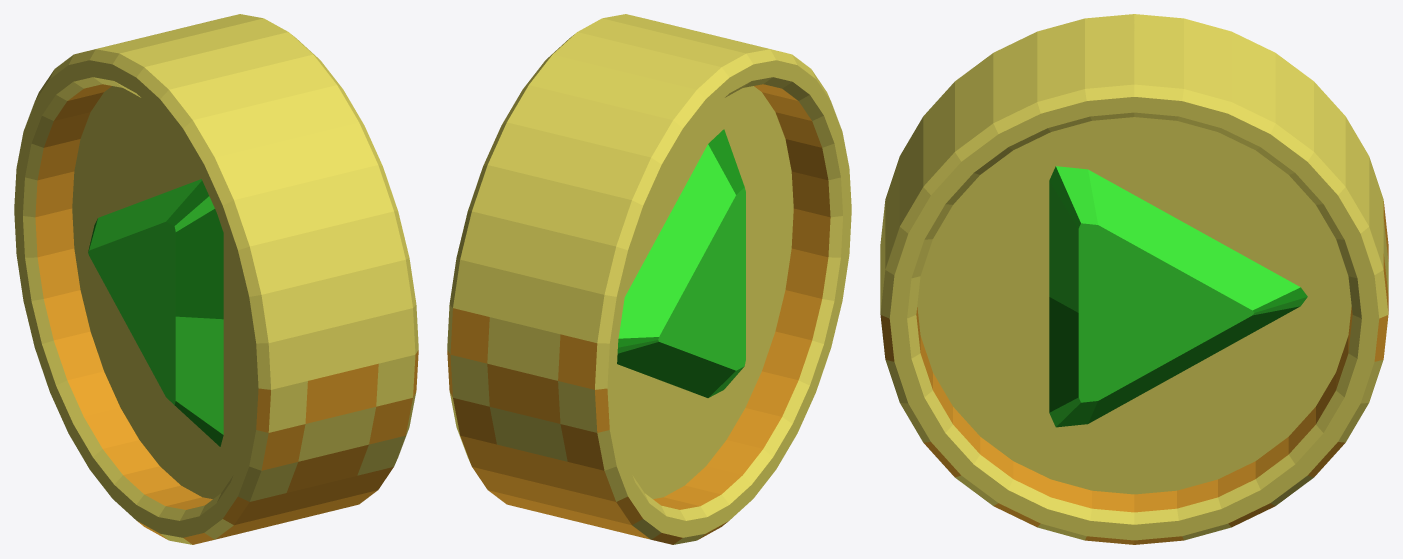
Rendered from nextButton.fbx.
3 views of the same model, side by side, from view 1: azimuth 30°, elevation 25°; view 2: azimuth 150°, elevation 25°; view 3: azimuth 270°, elevation 25° (orthographic).
Parts seen in each view (by area): view 1: Plane; view 2: Plane; view 3: Plane.
Boxes of the visible parts, box(x1,y1,x2,y2) form: Plane: box(14, 14, 418, 544); Plane: box(447, 14, 851, 544); Plane: box(880, 14, 1388, 544).
Size of the model in its own units: 301 by 301 by 110.
